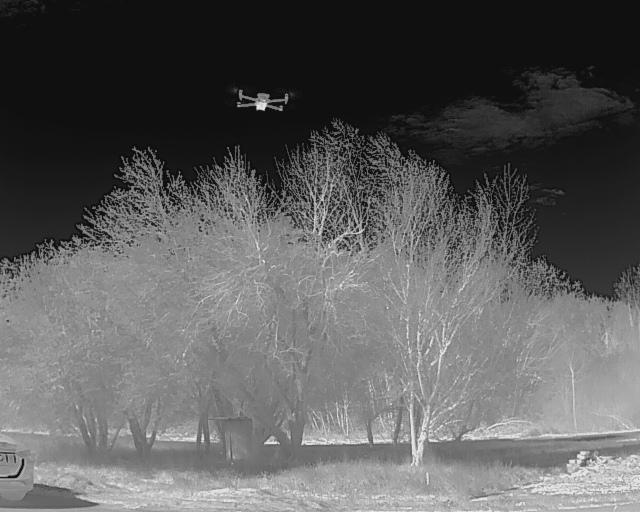drone: (224, 85, 295, 124)
